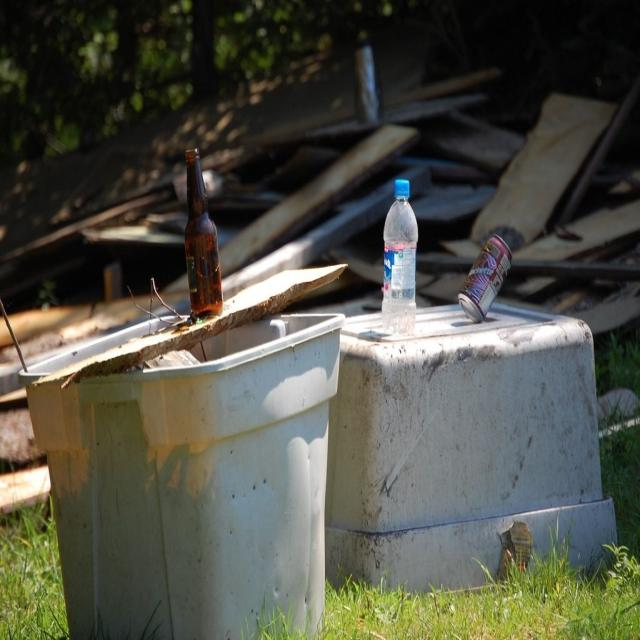Glass: (181, 140, 231, 315)
Plastics: (9, 354, 344, 636), (383, 172, 425, 340)
can: (458, 223, 514, 322)
